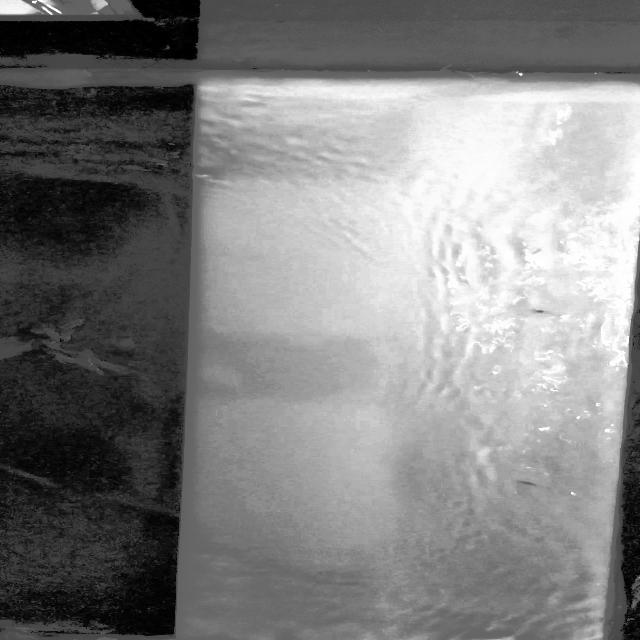shrimp: (505, 477, 553, 492), (533, 305, 560, 316)
